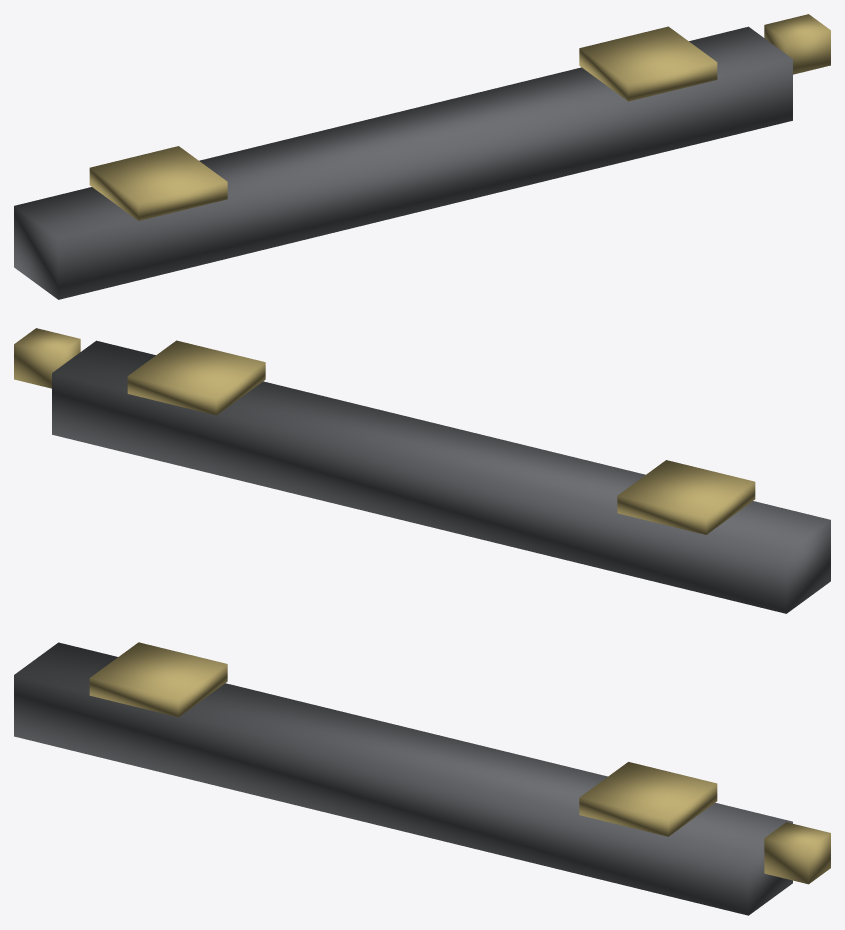
The model's file is wheel_stop_11.glb.
3 views of the same model, one above another, from view 1: azimuth 30°, elevation 25°; view 2: azimuth 150°, elevation 25°; view 3: azimuth 330°, elevation 25° (orthographic).
Visible parts, largest first — view 1: world; view 2: world; view 3: world.
Boxes of the visible parts, x1=… form: world: x1=14, y1=14, x2=830, y2=299; world: x1=14, y1=328, x2=830, y2=613; world: x1=14, y1=642, x2=830, y2=915.
Size of the model in its own units: 1.83 by 0.1764 by 0.198.
